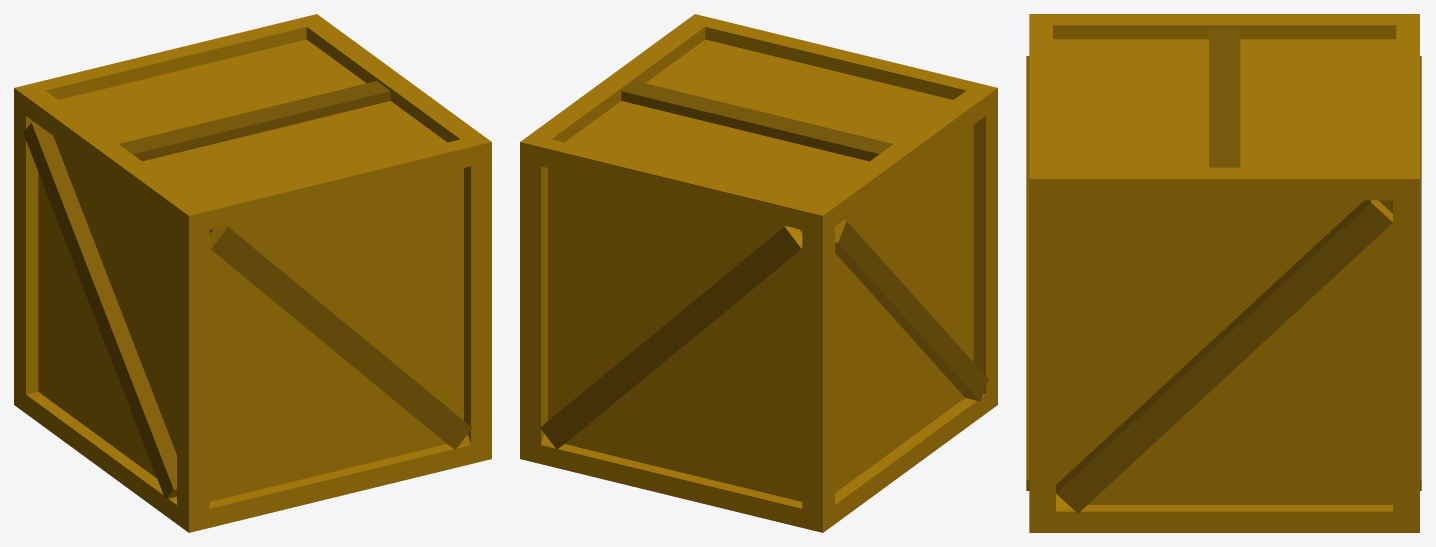
The model's file is caisse_bois.fbx.
3 renders of one model, left to right at view 1: azimuth 30°, elevation 25°; view 2: azimuth 150°, elevation 25°; view 3: azimuth 270°, elevation 25°, orthographic. The views are drawn at different scales.
Parts seen in each view (by area): view 1: pCube1; view 2: pCube1; view 3: pCube1.
Boxes of the visible parts, x1,y1,x2,y2 form: pCube1: (14, 14, 491, 532); pCube1: (520, 14, 997, 532); pCube1: (1026, 14, 1421, 532).
Size of the model in its own units: 1.02 by 1 by 1.01.
